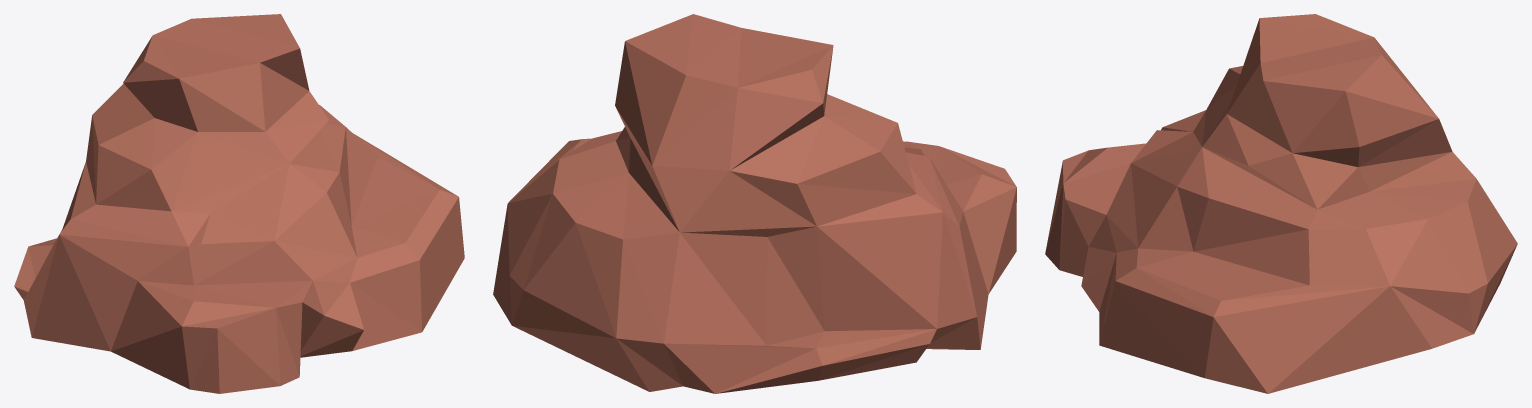
The model's file is rock_001.fbx.
3 views of the same model, side by side, from view 1: azimuth 30°, elevation 25°; view 2: azimuth 150°, elevation 25°; view 3: azimuth 270°, elevation 25° (orthographic). The views are drawn at different scales.
Visible parts, largest first — view 1: rock_001; view 2: rock_001; view 3: rock_001.
Boxes of the visible parts, box(x1,y1,x2,y2) form: rock_001: box(14, 14, 464, 393); rock_001: box(493, 14, 1016, 393); rock_001: box(1045, 14, 1517, 393).
Bounding box in the file's own units: 876 × 823 × 473.
